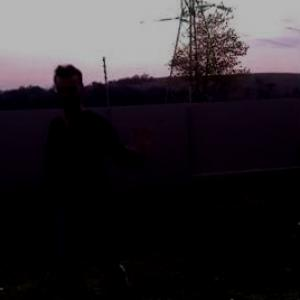follow_hand: (122, 122, 160, 158)
